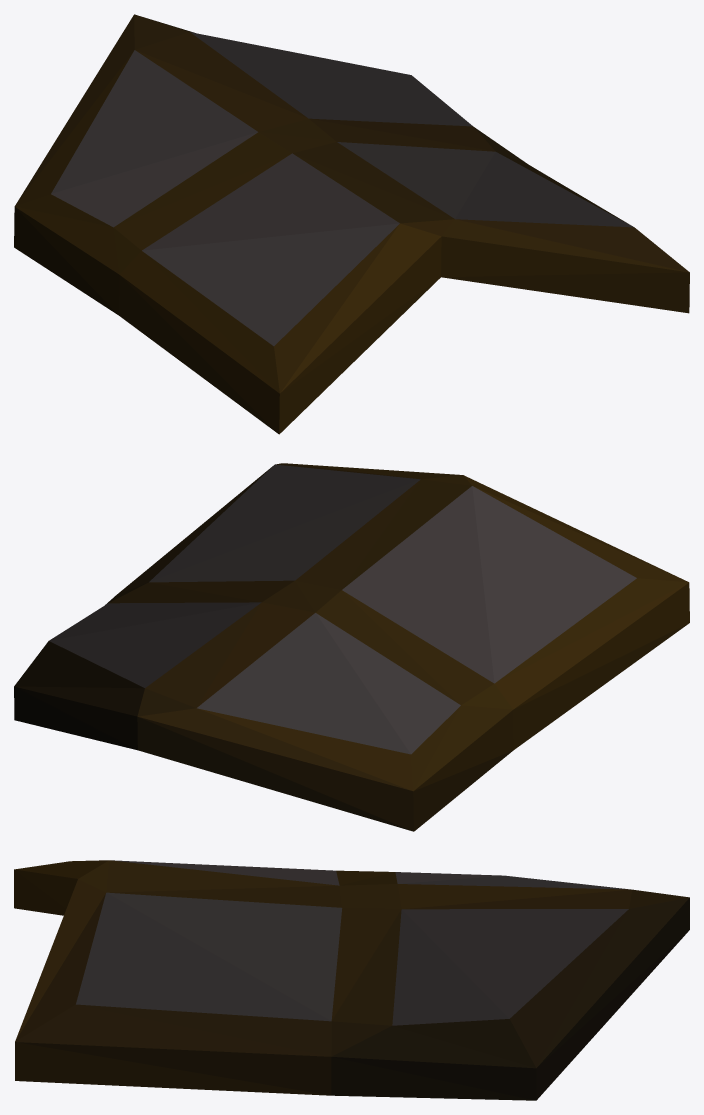
File: iron-kiteshield.obj
The picture shows the model from 3 angles, top to bottom: view 1: azimuth 30°, elevation 25°; view 2: azimuth 150°, elevation 25°; view 3: azimuth 270°, elevation 25°; orthographic projection. The views are drawn at different scales.
Visible parts, largest first — view 1: Item Iron kiteshield 2026-09-24_18-11-25; view 2: Item Iron kiteshield 2026-09-24_18-11-25; view 3: Item Iron kiteshield 2026-09-24_18-11-25.
Boxes of the visible parts, x1,y1,x2,y2 form: Item Iron kiteshield 2026-09-24_18-11-25: (14,14,689,434); Item Iron kiteshield 2026-09-24_18-11-25: (14,463,689,831); Item Iron kiteshield 2026-09-24_18-11-25: (14,860,689,1100).
Bounding box in the file's own units: 63.84 × 21.62 × 93.81.
